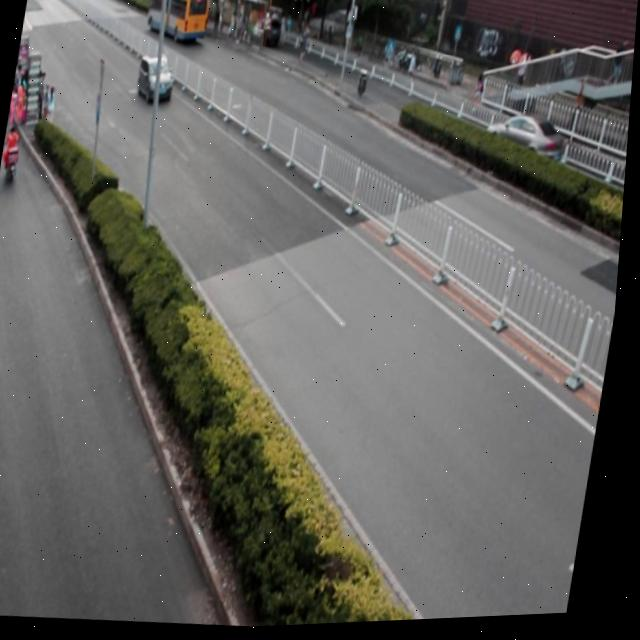car: (481, 110, 571, 183), (135, 55, 178, 109), (249, 15, 284, 51)
van: (141, 0, 212, 46)
